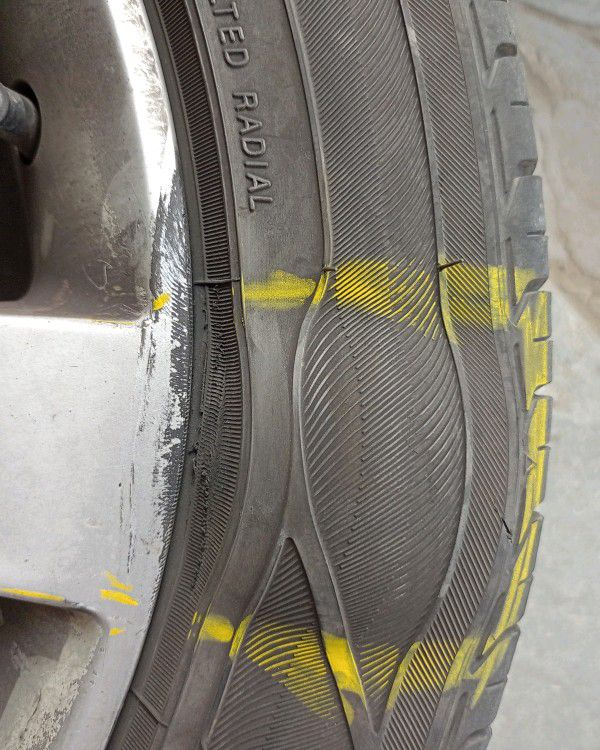CBU: (235, 341, 503, 617)
